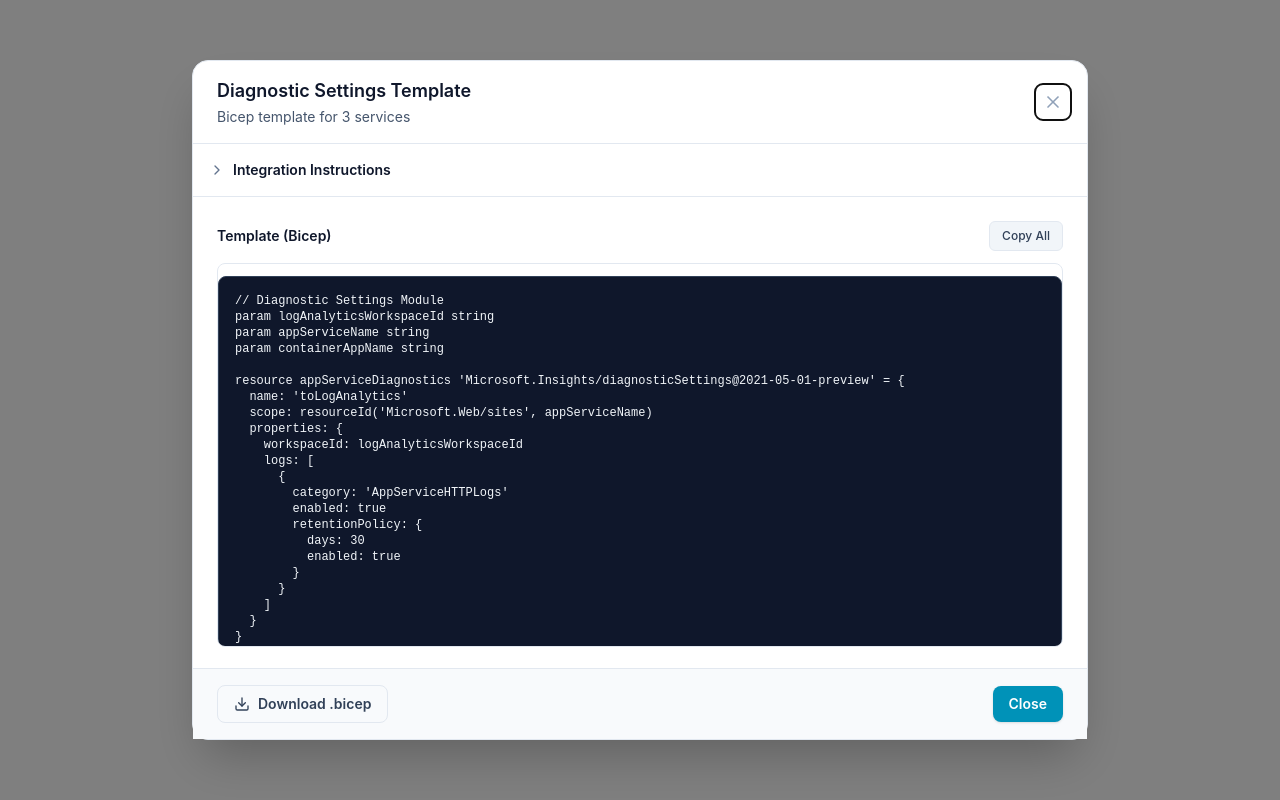
Test: BicepTemplateModal › Integration Instructions › should expand/collapse instructions on click
This screenshot has width=1280, height=800.
Expected: the text "Integration Instructions" is shown, [233,160,391,180]
Note: Click to expand
What coordinates should you click on to do the following:
click the heading "Integration Instructions"
I would click on:
 (300, 170)
Its box is [209,161,391,178].
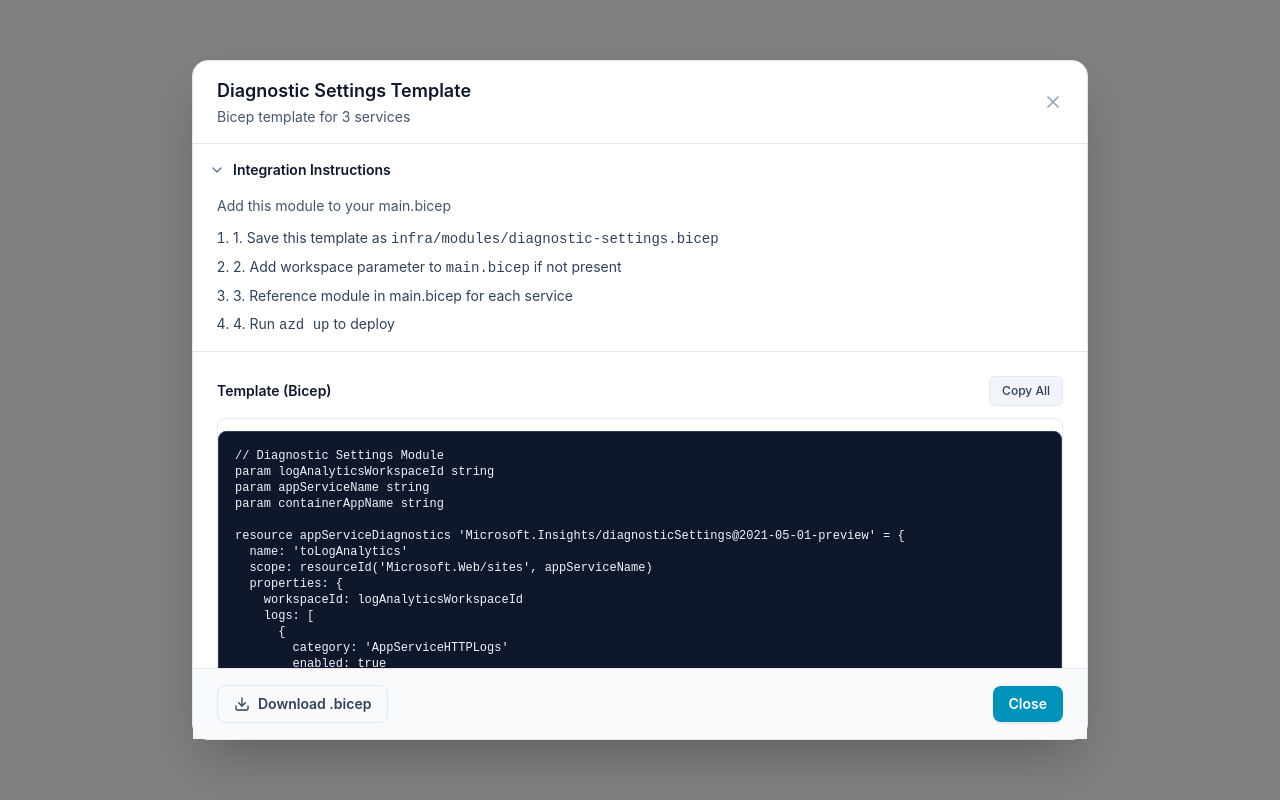
Now the text "Add this module to your main.bicep" is shown, box [217,197,451,214]
